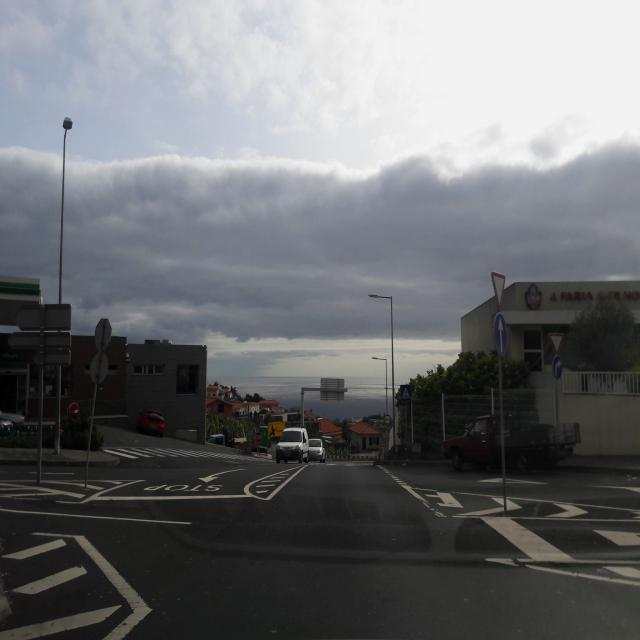car: (275, 428, 310, 464), (136, 408, 166, 437), (308, 438, 326, 462)
